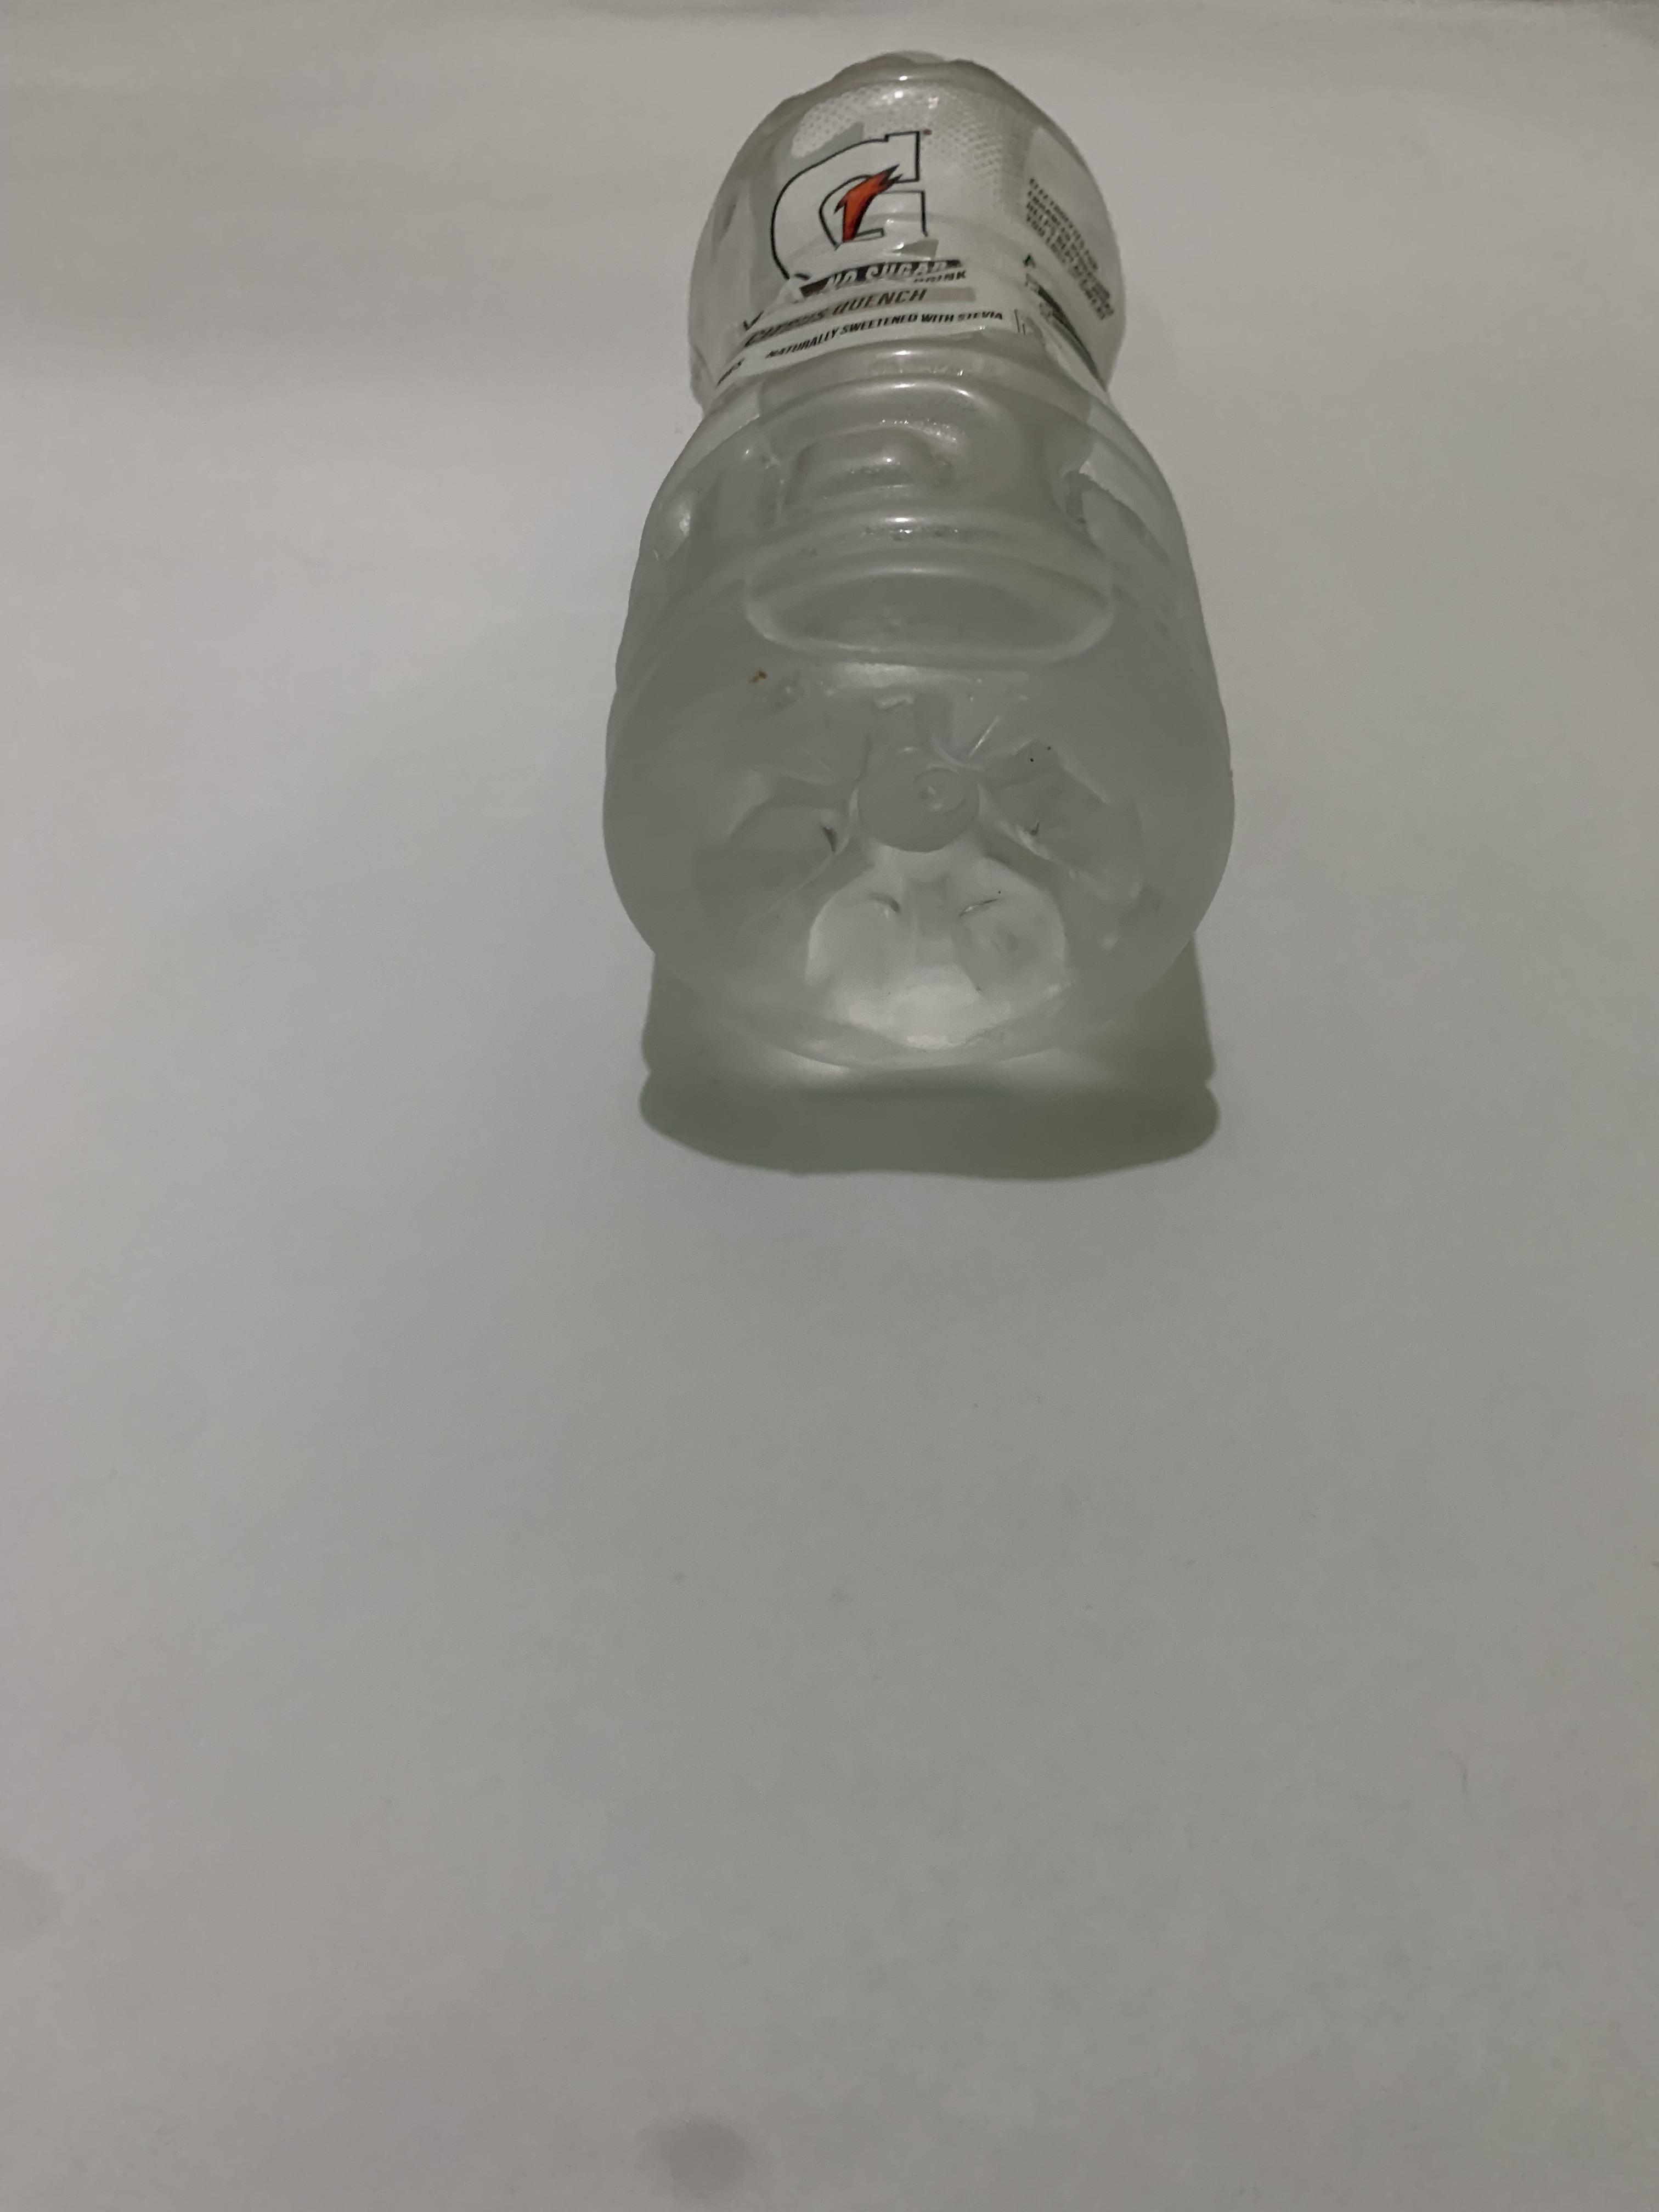bottle: (0, 0, 324, 981)
